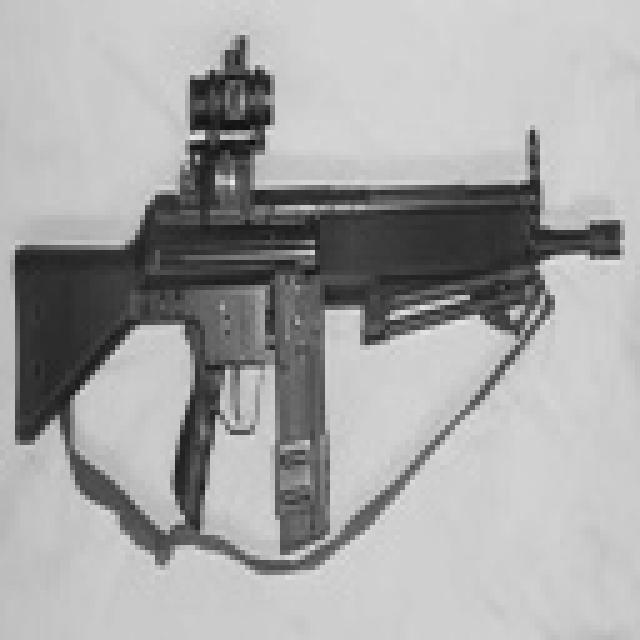Rifle: (0, 0, 632, 614)
